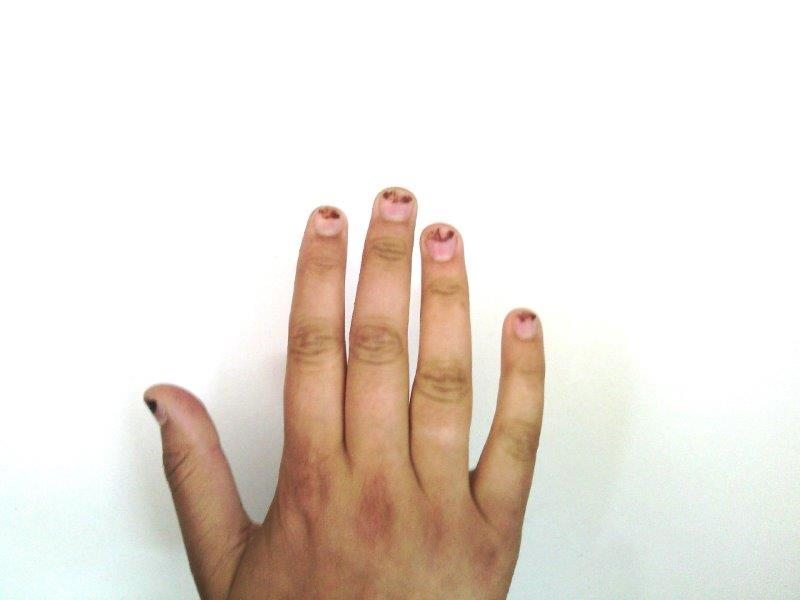hand: (144, 187, 548, 600)
